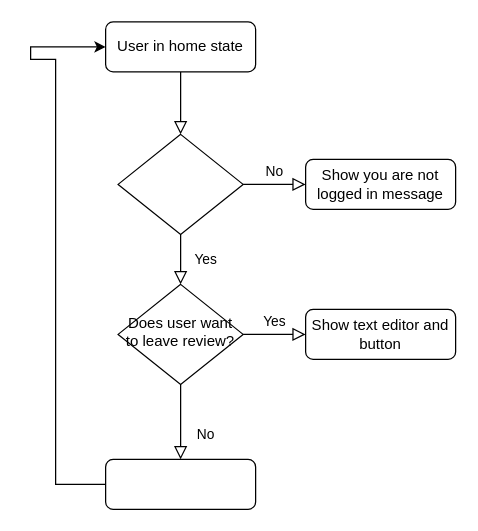
Image size: 478x531. Some labels were removed from this diagram. The centre of each missing label's shape, as x and y in pixels:
"Go back to home" goes at (180,483).
"Is user logged in?" goes at (180,183).
